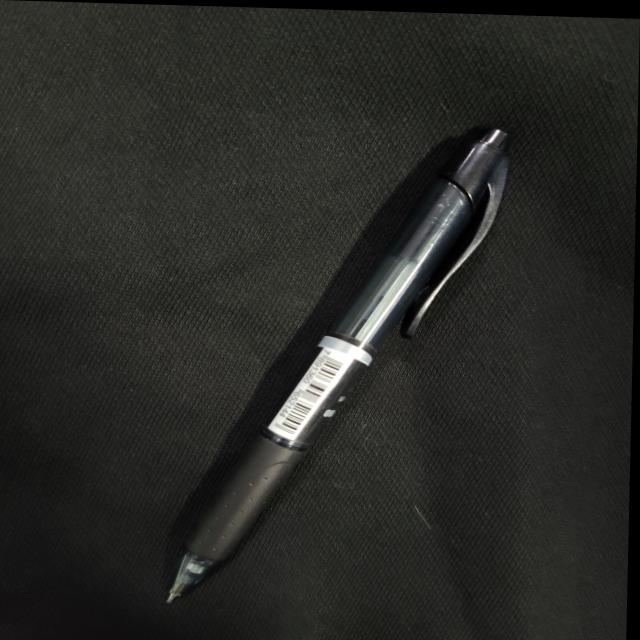caneta: (142, 90, 536, 640)
